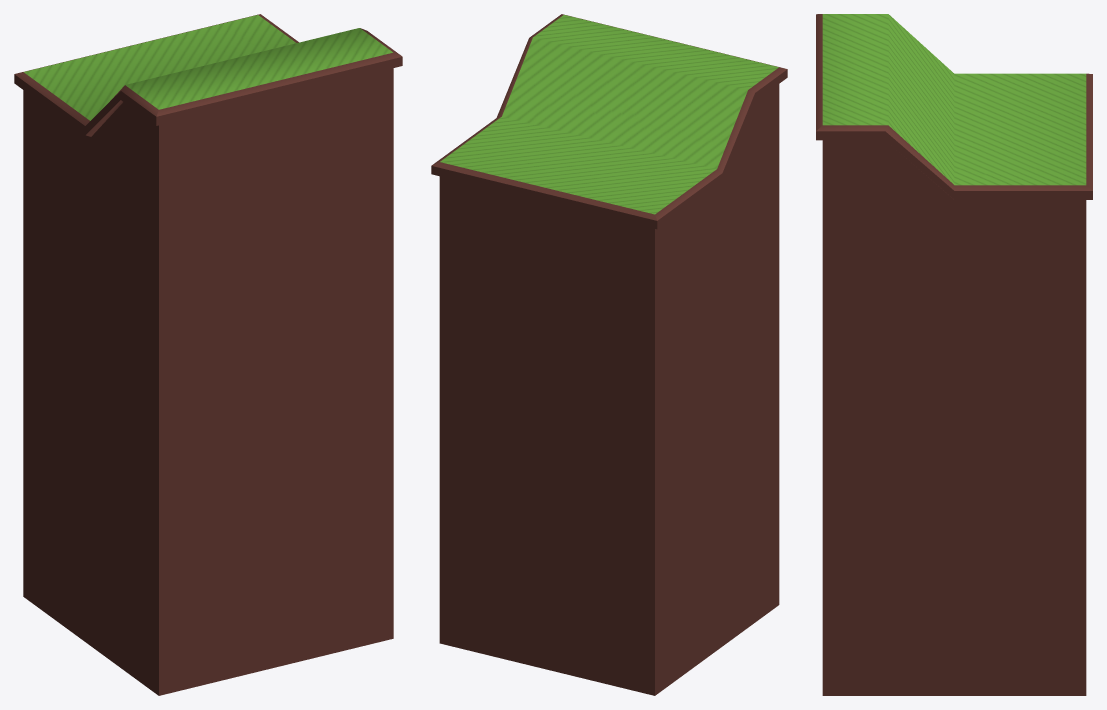
The model's file is Ground_Bricks_1_L_1.fbx.
The picture shows the model from 3 angles, left to right: view 1: azimuth 30°, elevation 25°; view 2: azimuth 150°, elevation 25°; view 3: azimuth 270°, elevation 25°; orthographic projection. The views are drawn at different scales.
Parts seen in each view (by area): view 1: Ground_Bricks_1_L_1; view 2: Ground_Bricks_1_L_1; view 3: Ground_Bricks_1_L_1.
Part boxes in pixels (x1,y1,x2,y2): Ground_Bricks_1_L_1: [14, 14, 402, 695]; Ground_Bricks_1_L_1: [431, 14, 787, 695]; Ground_Bricks_1_L_1: [816, 14, 1092, 695].
Bounding box in the file's own units: 4.2 × 9.55 × 4.2.
